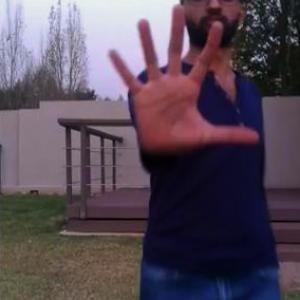follow_hand: (101, 1, 263, 157)
